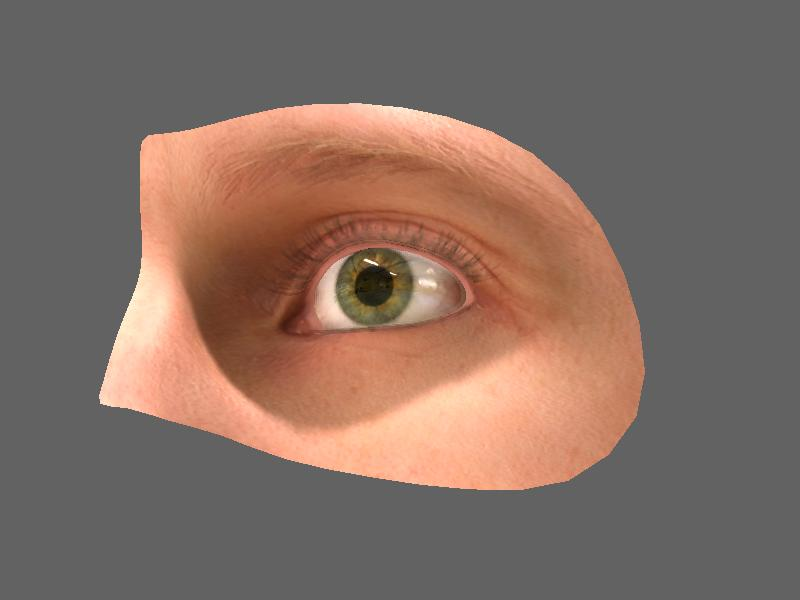iris: (330, 250, 417, 330)
